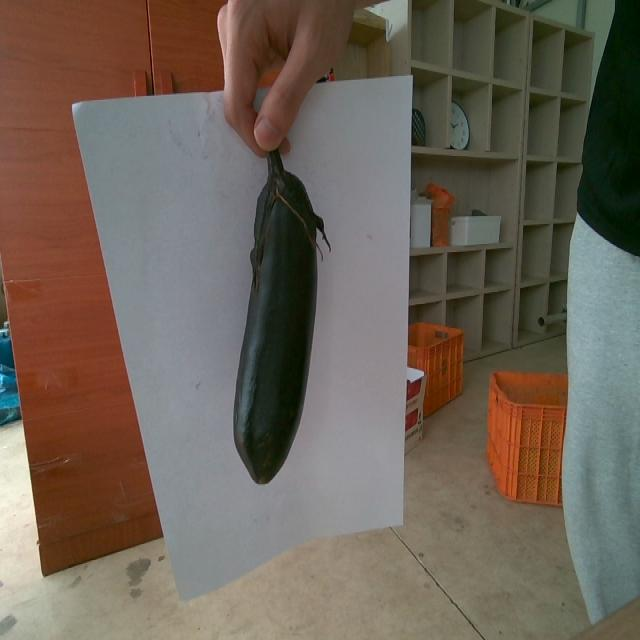Egg plant: (233, 149, 330, 483)
